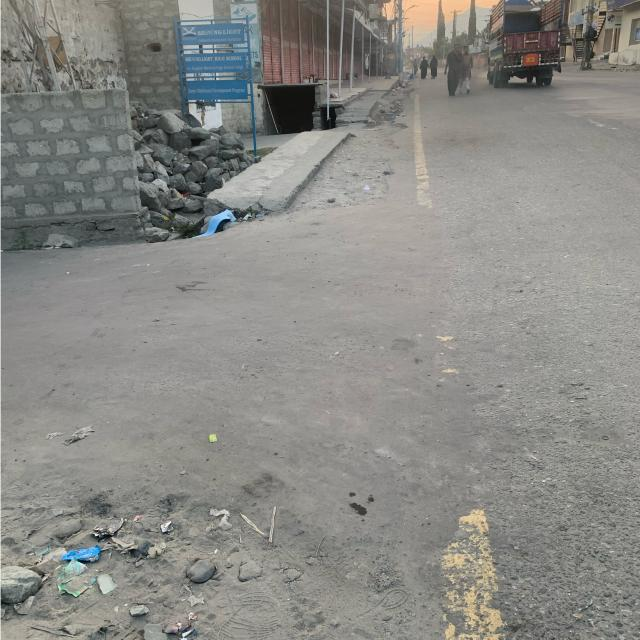Left-Turn: (0, 196, 453, 549)
straight: (434, 89, 640, 472)
